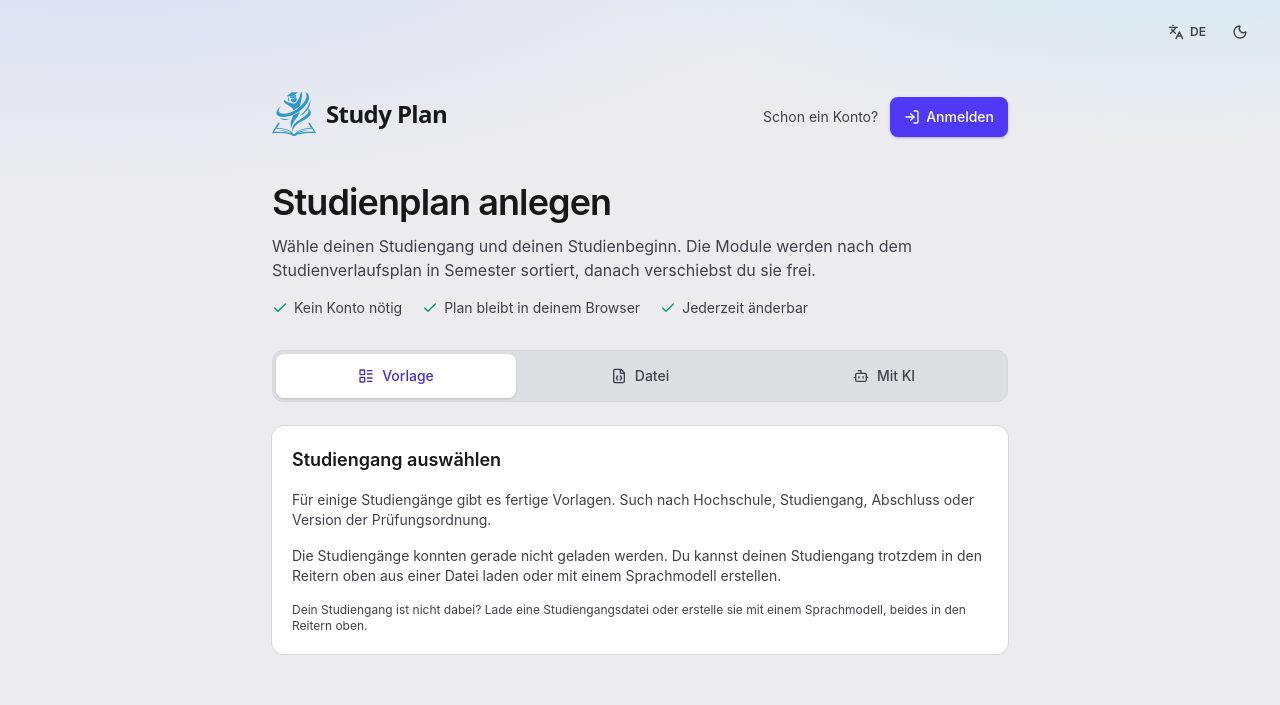
Scenario: choosing a preset on the start page › keeps the other options working when the list cannot be loaded
The image size is (1280, 705).
Expected: the text "Die Studiengänge konnten gerade nicht geladen werden" is shown, [292,547,982,584]
Click the tab "Datei": (640, 376) [520,354,760,398]
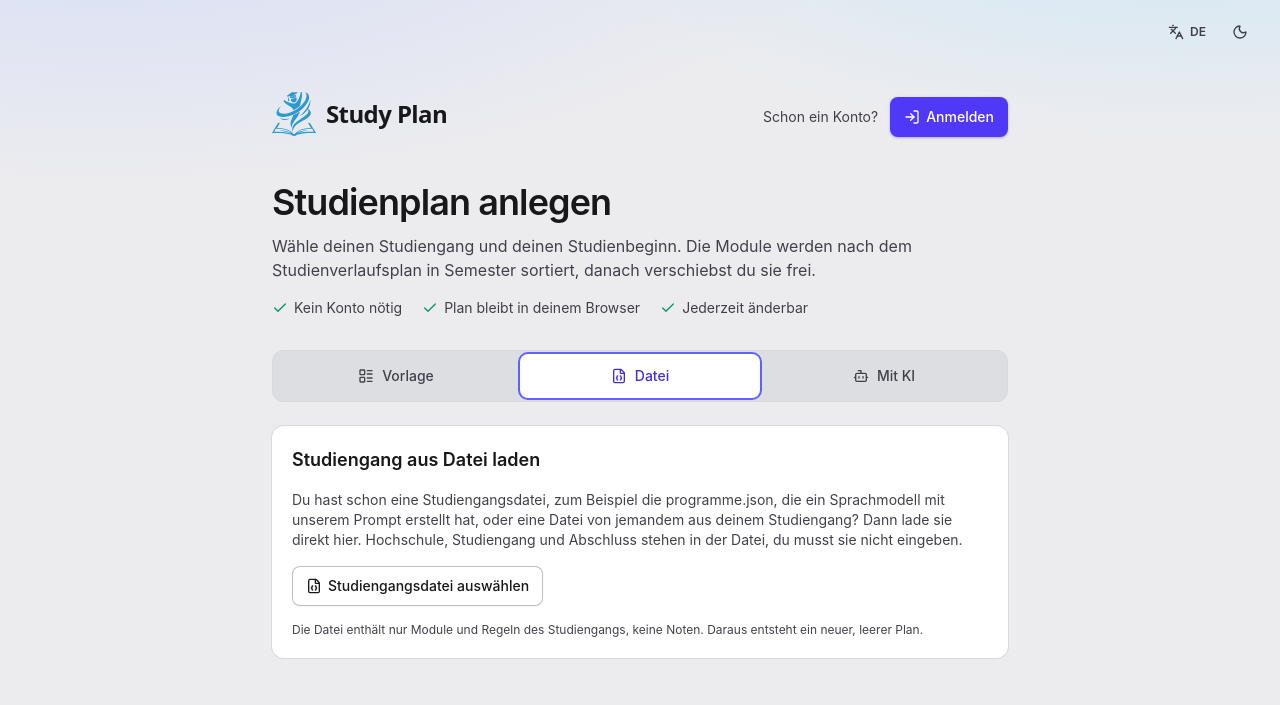
Expected: the element "Studiengang aus Datei laden" is shown, [272,426,1008,658]
Click the tab "Mit KI": (884, 376) [764,354,1004,398]
(page scrolled)
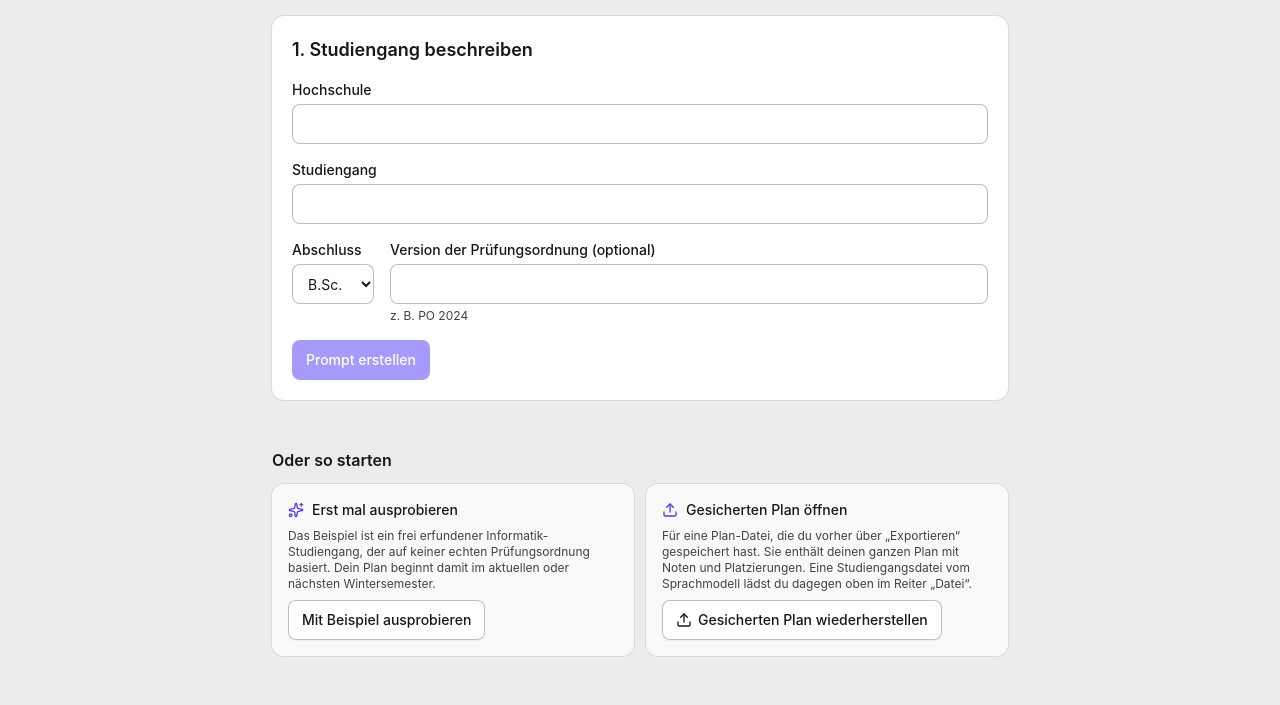
Expected: the button "Prompt erstellen" is shown, [292,340,430,380]
